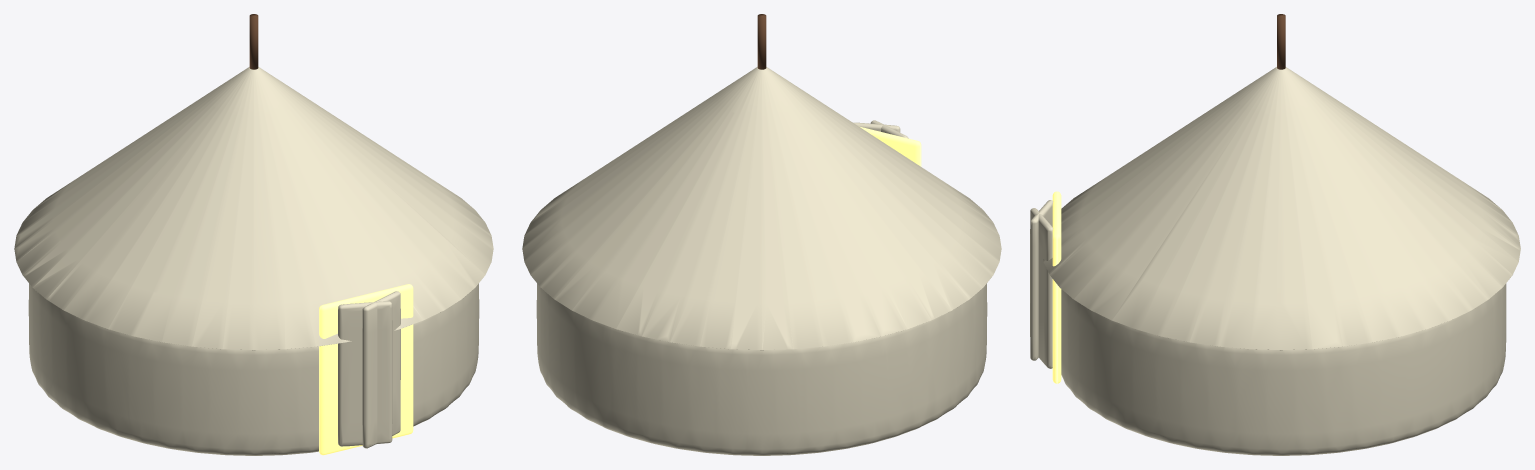
File: plush_belltent.glb
3 renders of one model, left to right at view 1: azimuth 30°, elevation 25°; view 2: azimuth 150°, elevation 25°; view 3: azimuth 270°, elevation 25°, orthographic.
Visible parts, largest first — view 1: wall, door, pole; view 2: wall, door, pole; view 3: wall, door, pole.
Boxes of the visible parts, <box> form: wall: <box>14,67,493,455</box>; door: <box>319,284,413,455</box>; pole: <box>249,14,258,69</box>; wall: <box>522,67,1001,455</box>; door: <box>859,126,921,166</box>; pole: <box>757,14,766,69</box>; wall: <box>1030,67,1520,455</box>; door: <box>1052,191,1061,383</box>; pole: <box>1277,14,1285,69</box>.
Bounding box in the file's own units: 2.76 × 2.22 × 2.82.
Materials: 3 (3 with a texture image).
